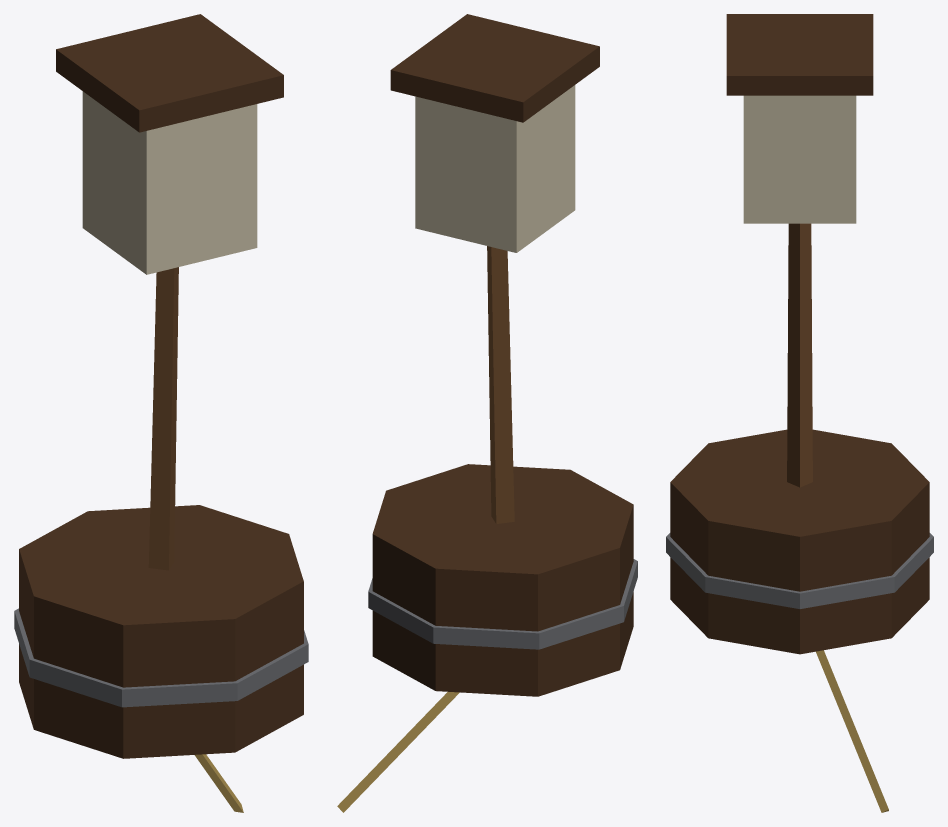
Rendered from br_x_buoy_lamp.glb.
The picture shows the model from 3 angles, left to right: view 1: azimuth 30°, elevation 25°; view 2: azimuth 150°, elevation 25°; view 3: azimuth 270°, elevation 25°; orthographic projection. The views are drawn at different scales.
Visible parts, largest first — view 1: br_x_buoy_lamp; view 2: br_x_buoy_lamp; view 3: br_x_buoy_lamp.
Part boxes in pixels (left/top/right/bottom): br_x_buoy_lamp: left=14, top=14, right=308, bottom=812; br_x_buoy_lamp: left=337, top=14, right=637, bottom=812; br_x_buoy_lamp: left=666, top=14, right=933, bottom=812.
Size of the model in its own units: 0.62 by 1.83 by 0.62.
